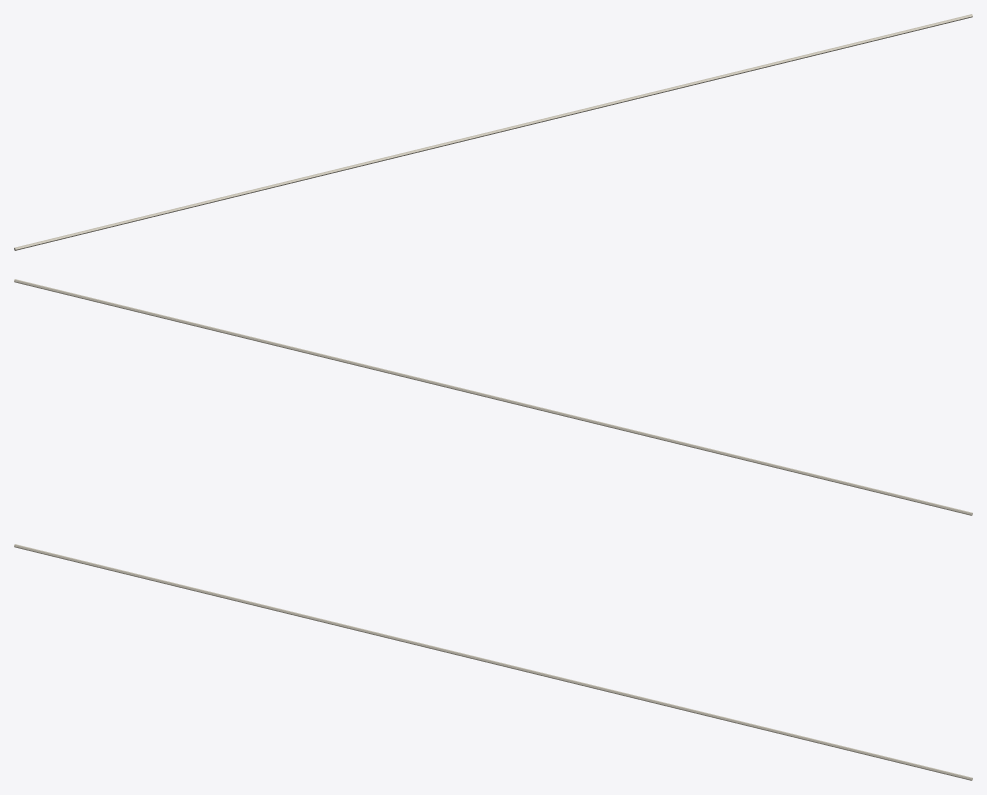
File: tripwire.glb
3 renders of one model, top to bottom at view 1: azimuth 30°, elevation 25°; view 2: azimuth 150°, elevation 25°; view 3: azimuth 330°, elevation 25°, orthographic.
Visible parts, largest first — view 1: wire_l, wire_r; view 2: wire_l, wire_r; view 3: wire_r, wire_l.
Boxes of the visible parts, x1,y1,x2,y2 form: wire_l: (14, 129, 501, 250); wire_r: (486, 14, 972, 133); wire_l: (485, 394, 972, 515); wire_r: (14, 279, 500, 398); wire_r: (485, 659, 972, 780); wire_l: (14, 544, 500, 663).
Size of the model in its own units: 1 by 0.0026 by 0.003.
